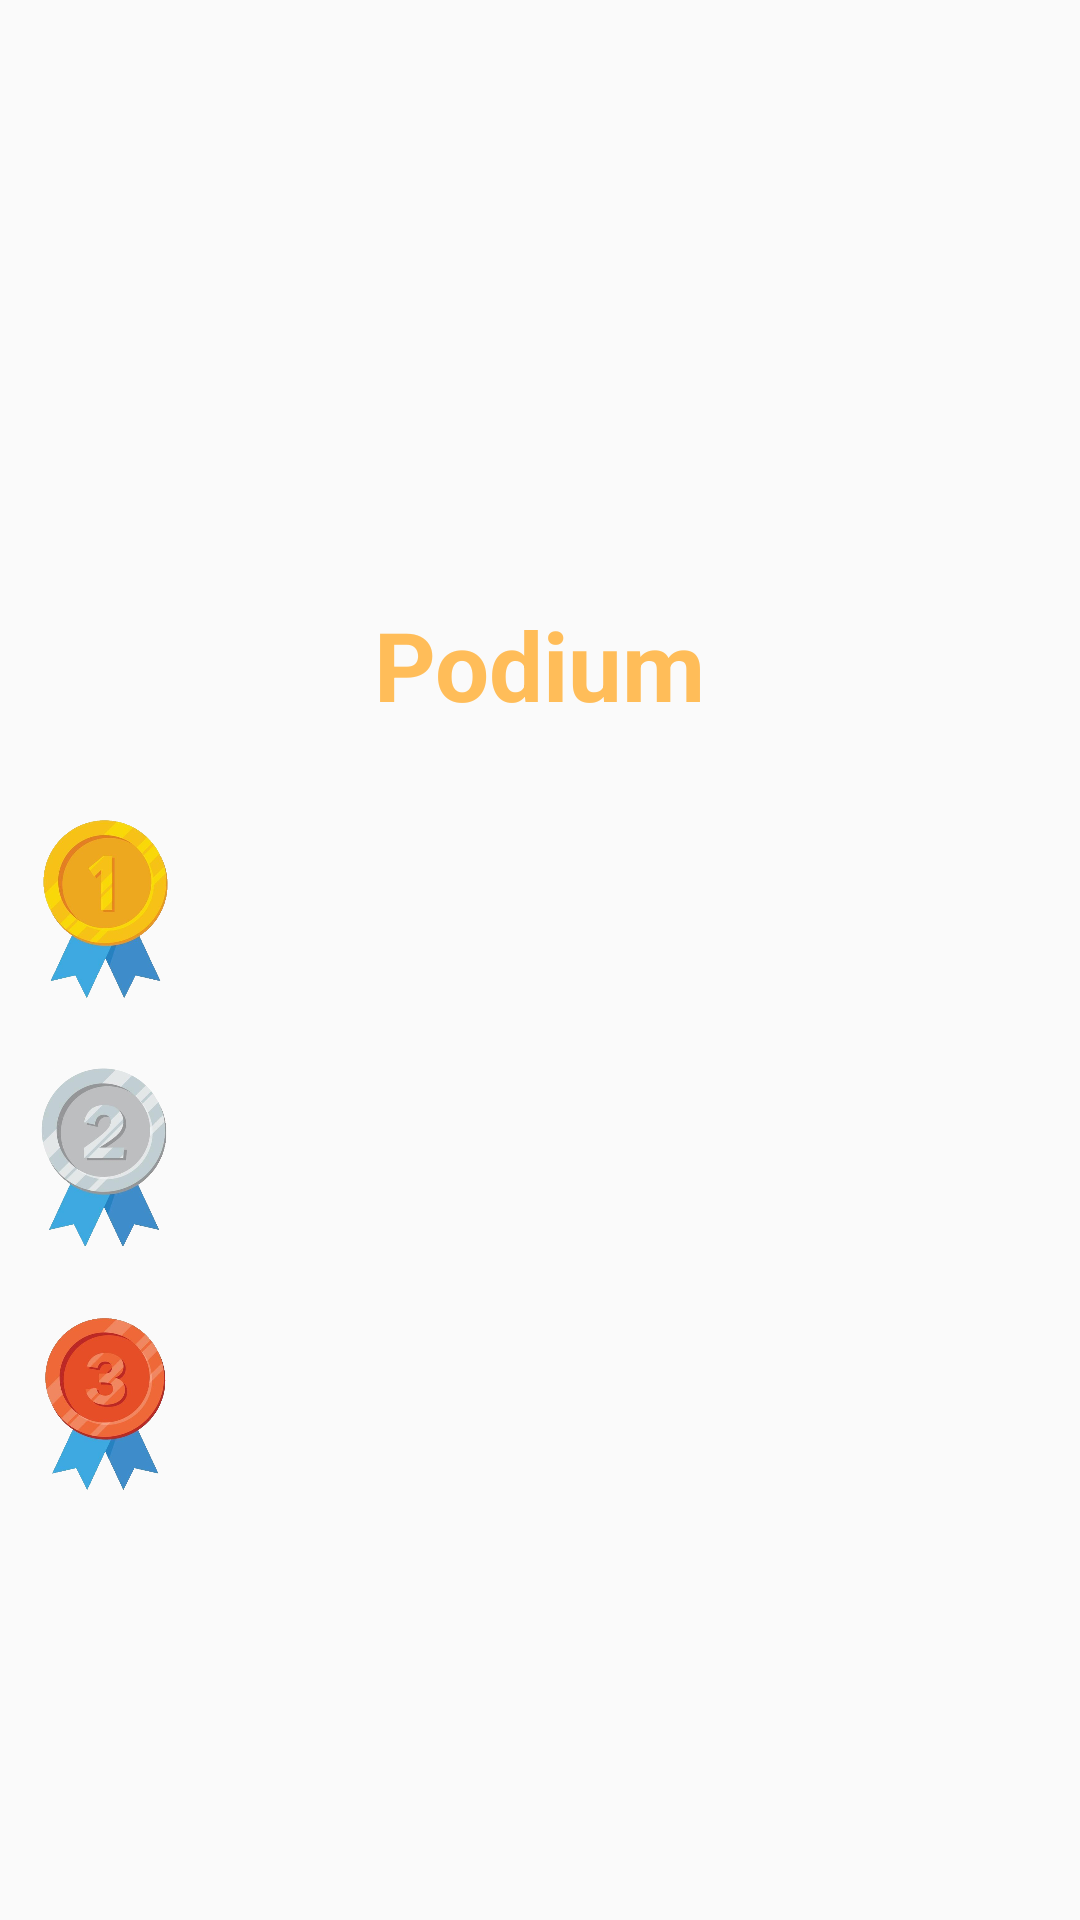

Icons on this 1080*1920 Android screen, each with the point to tap as (x=x, y=y):
argent: (x=104, y=1157)
bronze: (x=105, y=1404)
